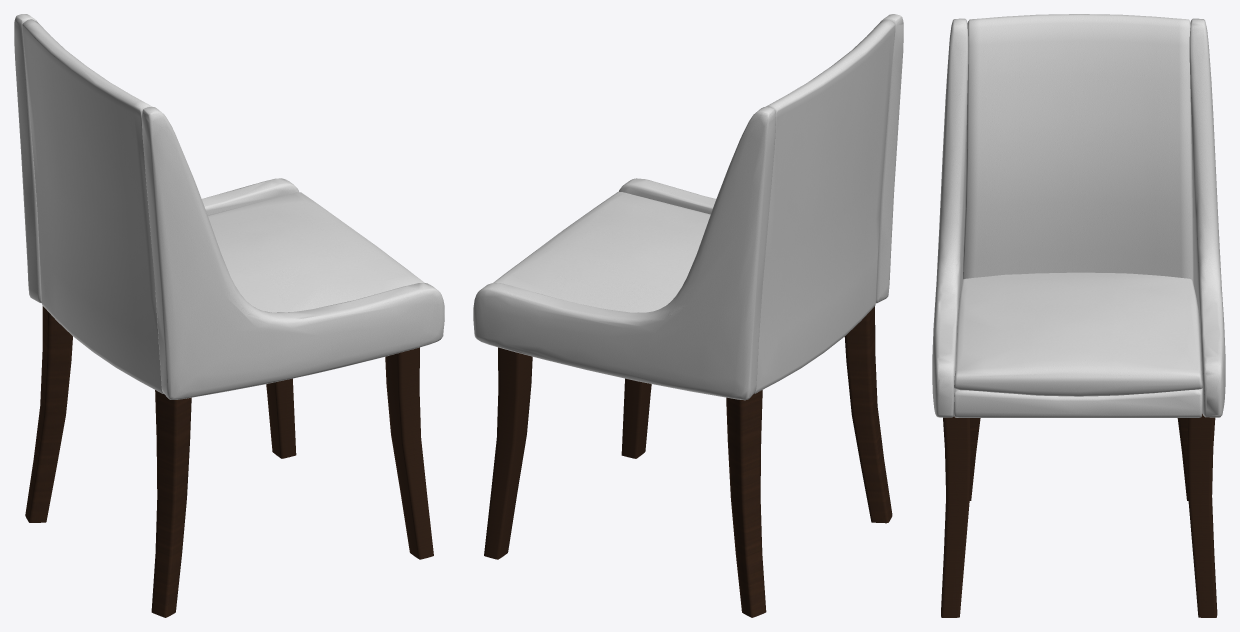
The model's file is Chair 2.FBX.
3 renders of one model, left to right at view 1: azimuth 30°, elevation 25°; view 2: azimuth 150°, elevation 25°; view 3: azimuth 270°, elevation 25°, orthographic. The views are drawn at different scales.
Visible parts, largest first — view 1: Chair 2; view 2: Chair 2; view 3: Chair 2.
Boxes of the visible parts, box(x1,y1,x2,y2) form: Chair 2: box(14, 14, 444, 617); Chair 2: box(473, 14, 903, 617); Chair 2: box(932, 14, 1225, 617).
Bounding box in the file's own units: 59.86 × 97.37 × 54.59.
Materials: 2 (2 with a texture image).
